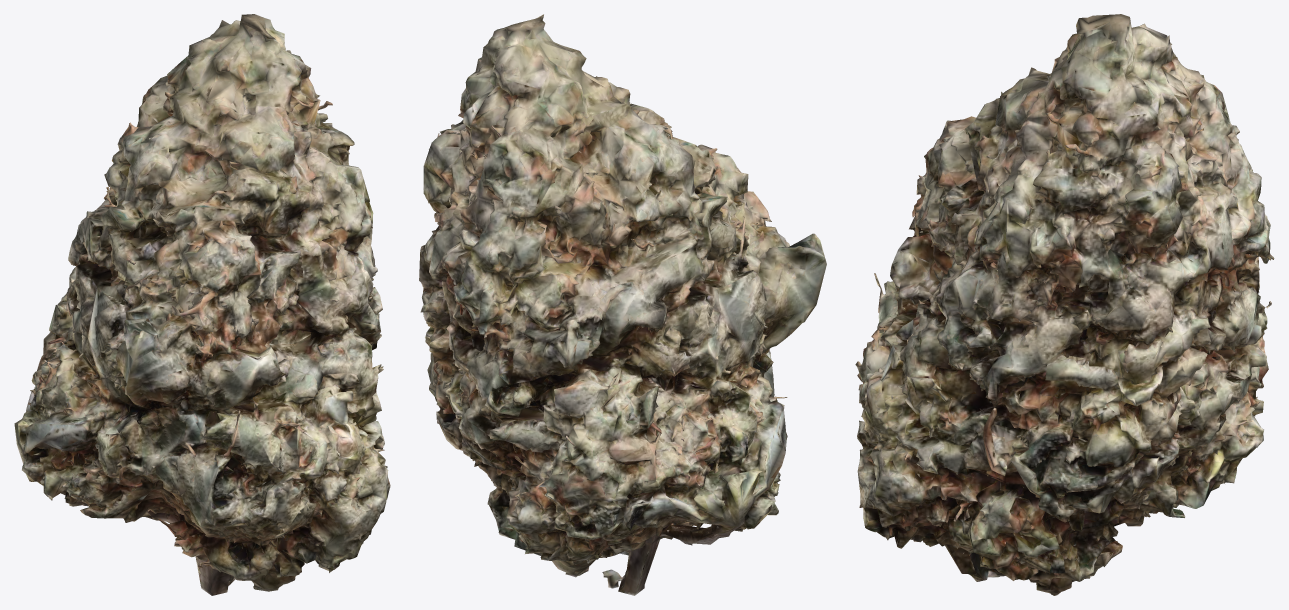
The model's file is budmobile.glb.
The picture shows the model from 3 angles, left to right: view 1: azimuth 30°, elevation 25°; view 2: azimuth 150°, elevation 25°; view 3: azimuth 270°, elevation 25°; orthographic projection. The views are drawn at different scales.
Visible parts, largest first — view 1: meshNode_Material_u1_v1_0; view 2: meshNode_Material_u1_v1_0; view 3: meshNode_Material_u1_v1_0.
Boxes of the visible parts, left/top/right/bottom form: meshNode_Material_u1_v1_0: left=14, top=14, right=390, bottom=595; meshNode_Material_u1_v1_0: left=419, top=14, right=826, bottom=595; meshNode_Material_u1_v1_0: left=855, top=14, right=1274, bottom=595.
Size of the model in its own units: 19.8 by 31.73 by 20.08.
Materials: 1 (1 with a texture image).
